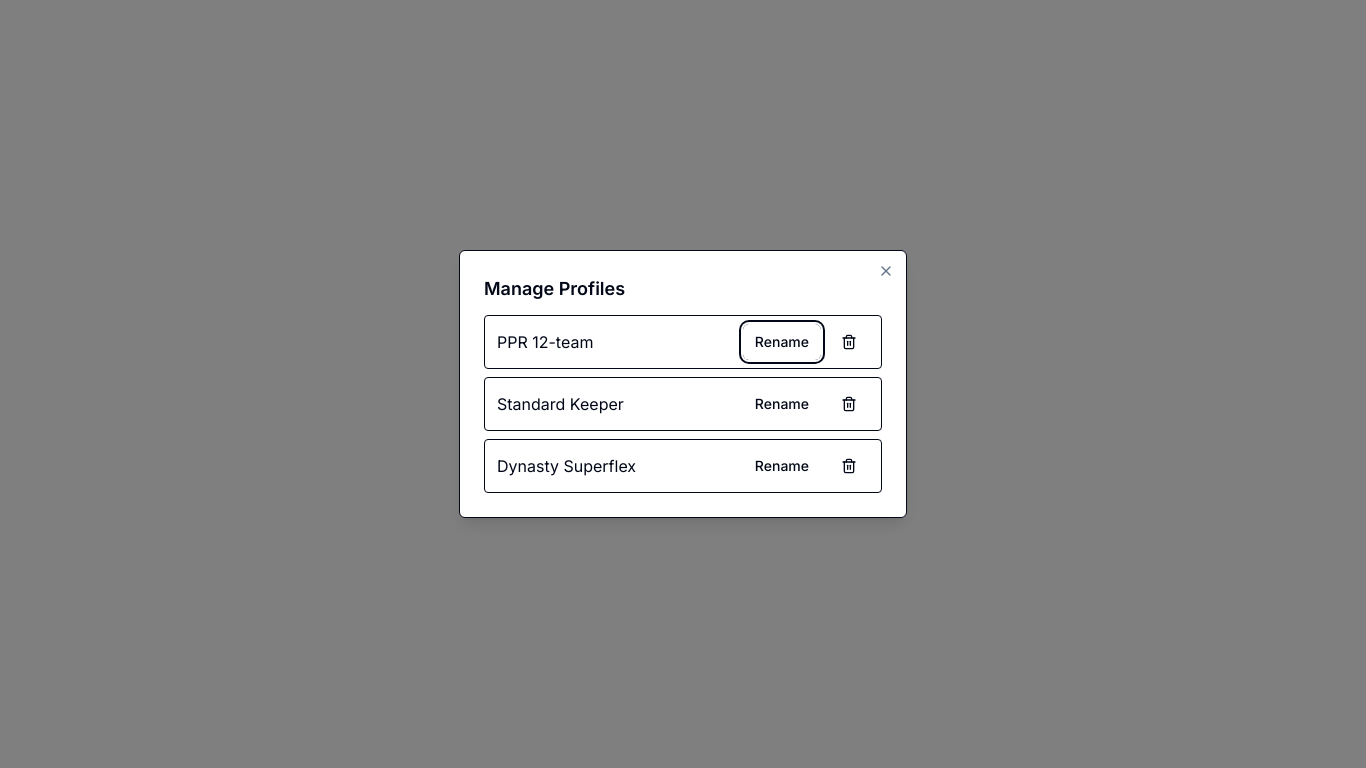
Scenario: ProfileManagerDialog › clicking Rename enables inline edit with the current name
Step 1. Click the button "Rename" next to "PPR 12-team" → (782, 342), box left=743, top=324, right=821, bottom=360
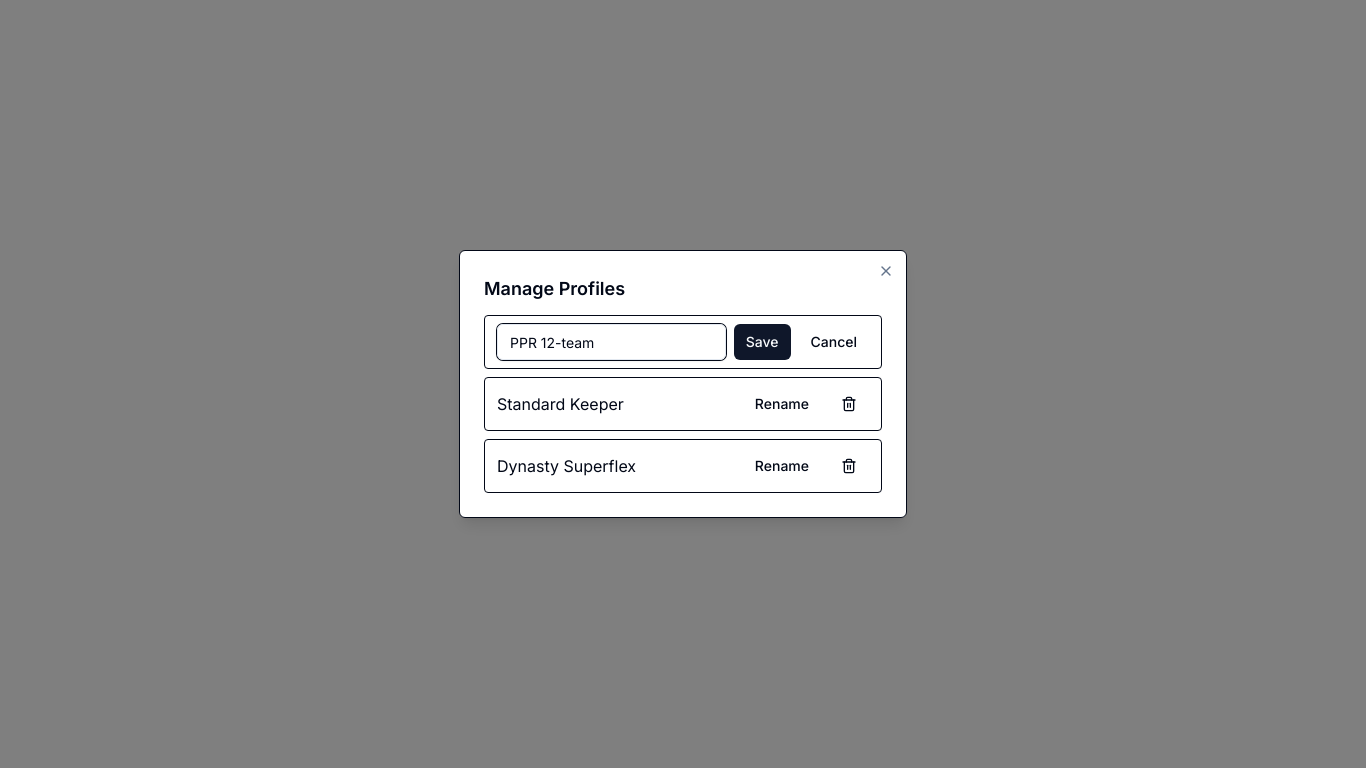
Now the field showing "PPR 12-team" is shown, box left=497, top=324, right=726, bottom=360
